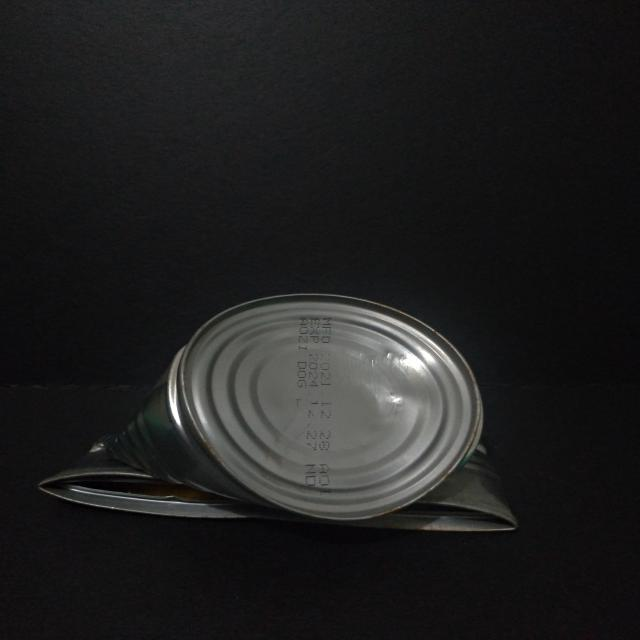metal-can: (32, 287, 523, 533)
